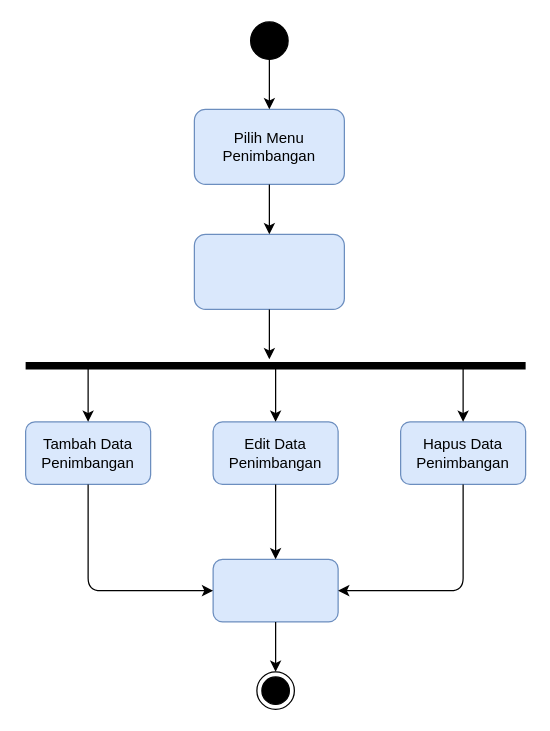
Some shapes in this 550 by 731 pixel diagram are drawn without their labels. Here are the shapes that lost their labels. From the top down, the centre of each, then its label:
At pixel 268 271: "Tampilkan Riwayat Penimbangan".
At pixel 275 590: "Update Database".
